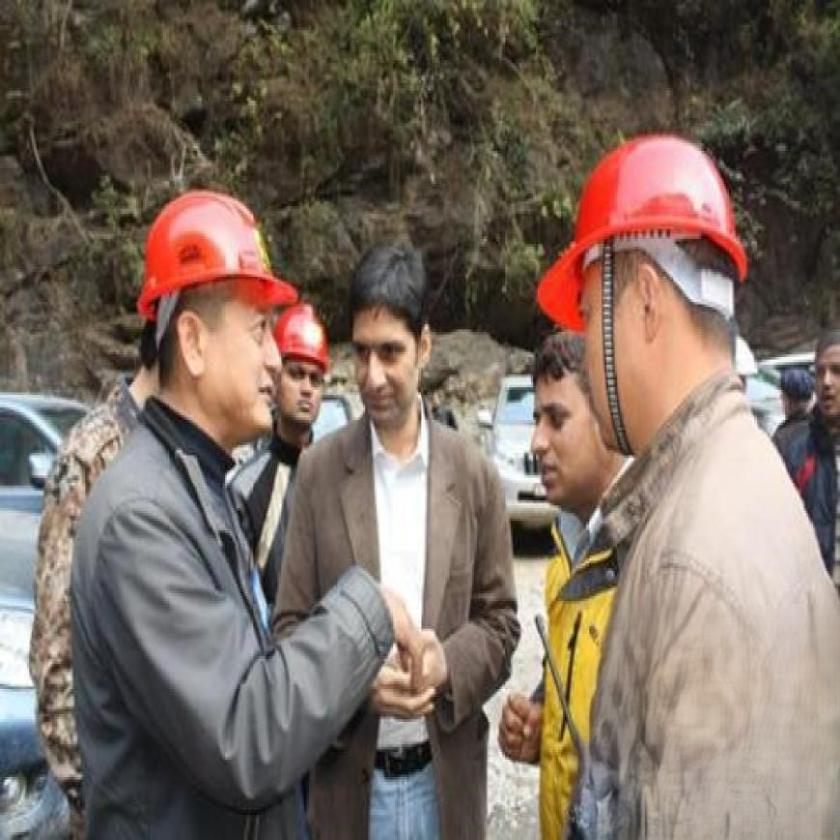Con_casco: (126, 194, 279, 446)
Sin_casco: (346, 225, 438, 433), (521, 336, 606, 500)
